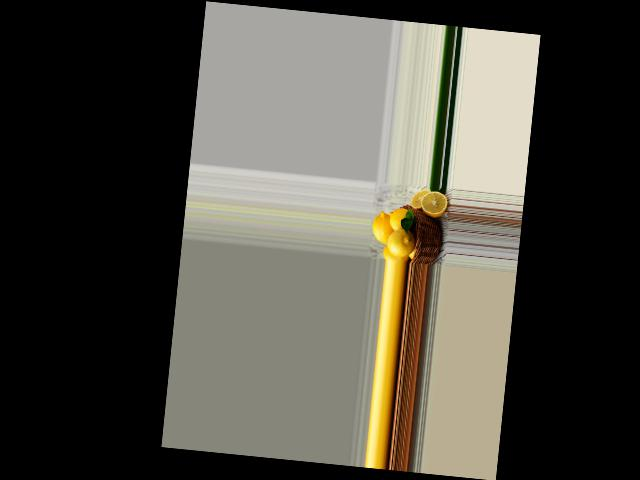lemon: (387, 205, 416, 235)
